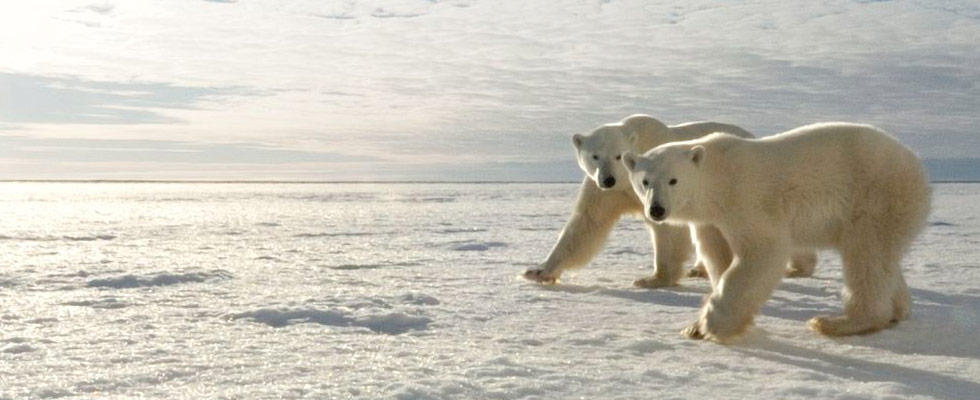Polar Bear: (627, 138, 947, 331)
